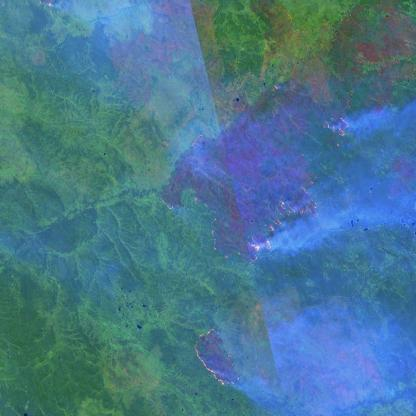fire: (246, 178, 318, 260), (194, 324, 241, 386), (320, 110, 352, 143)
